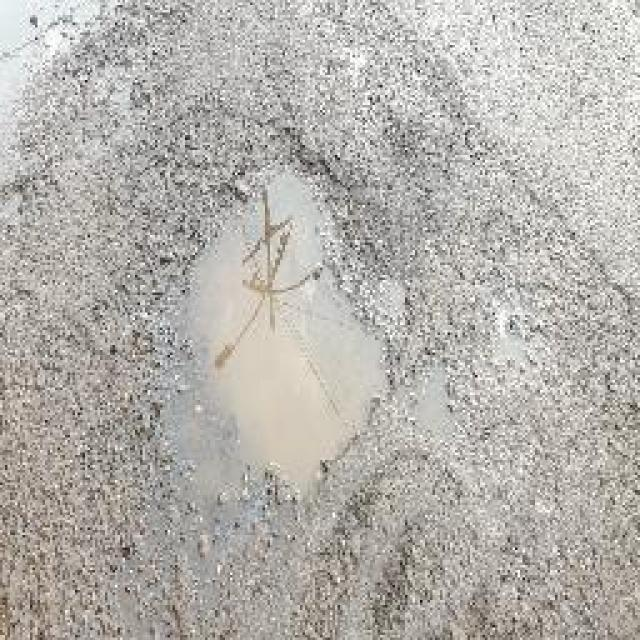puddle: (171, 159, 396, 511)
